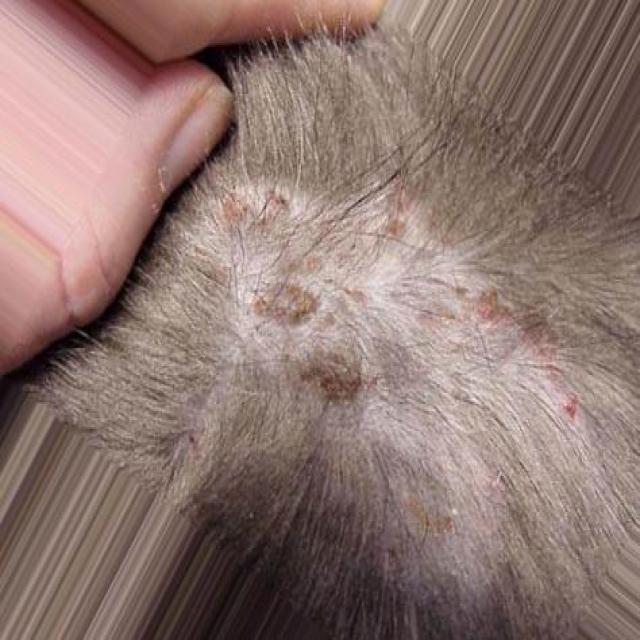di ung bo chet: (159, 83, 560, 562)
